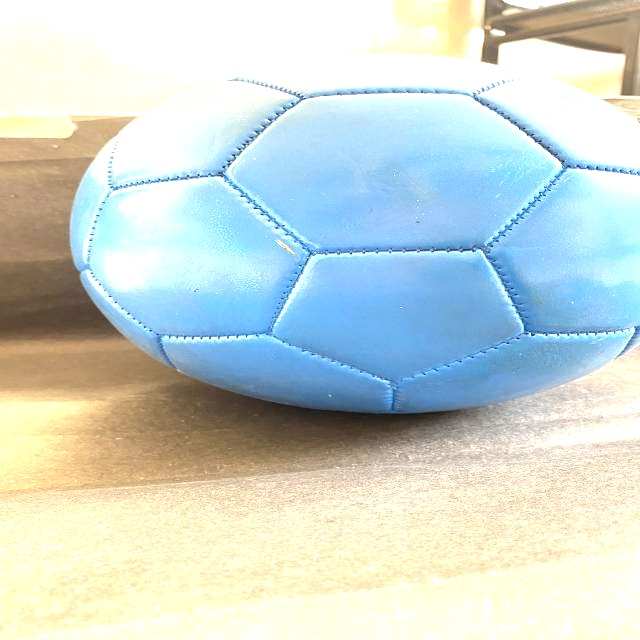blue_ball: (79, 49, 640, 414)
